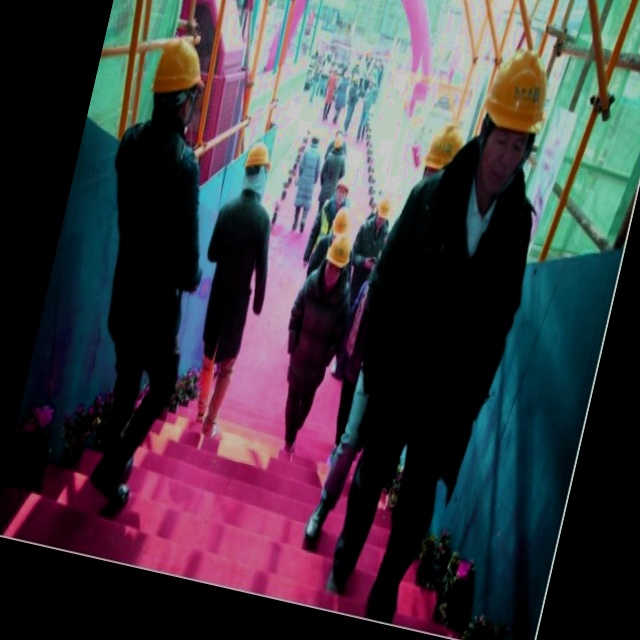Sin_Casco_Mascarrilla: (467, 44, 557, 198), (142, 36, 213, 137), (239, 141, 277, 199)
